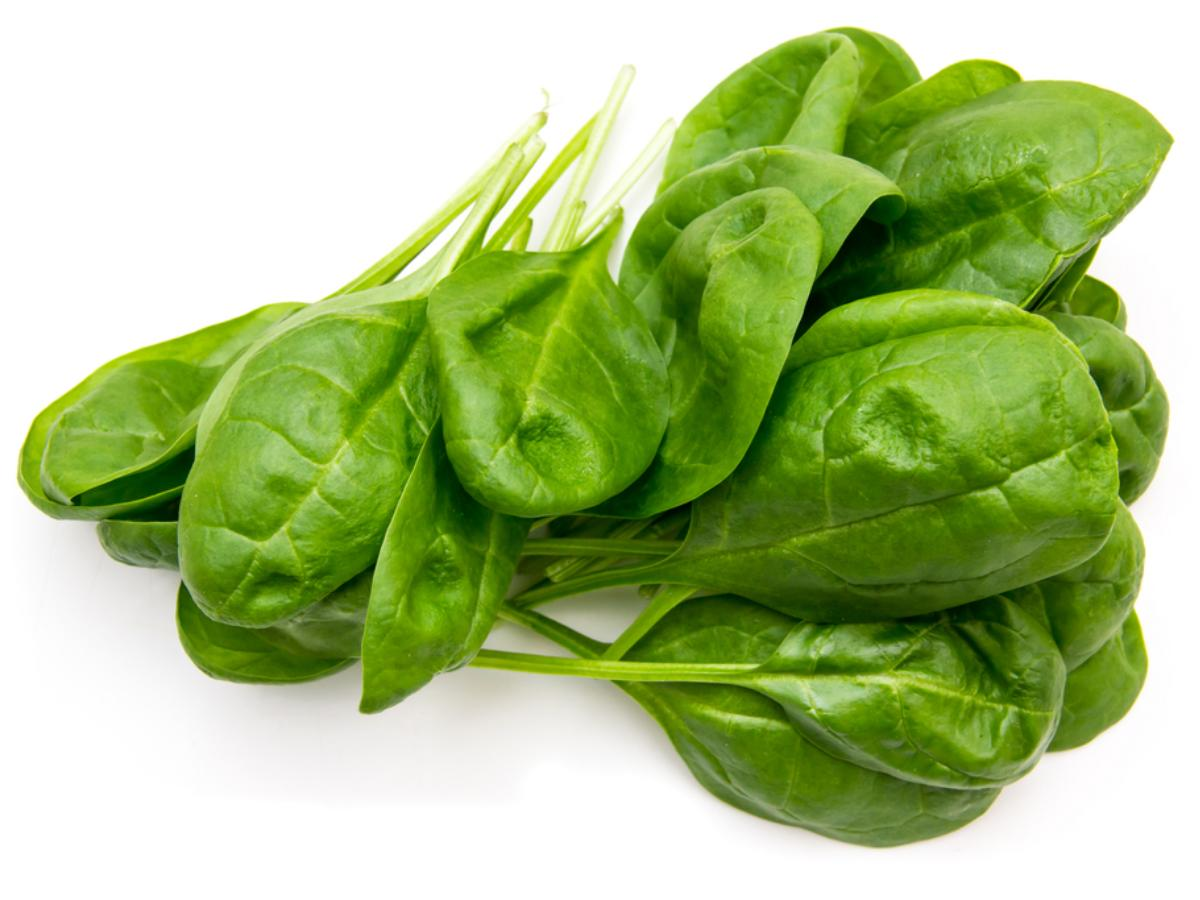Spinach: (11, 10, 1193, 869)
